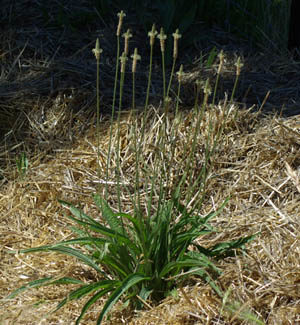buckhorn plantain: (70, 10, 231, 273)
